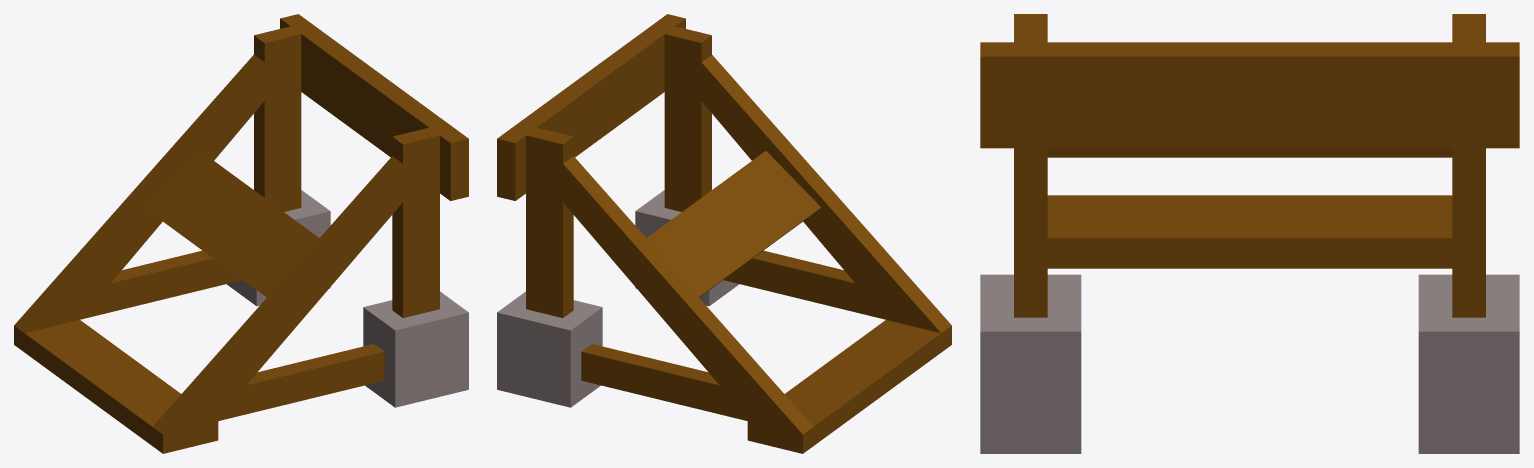
The model's file is obj_buffers_0.obj.
The picture shows the model from 3 angles, left to right: view 1: azimuth 30°, elevation 25°; view 2: azimuth 150°, elevation 25°; view 3: azimuth 270°, elevation 25°; orthographic projection. The views are drawn at different scales.
Bounding box in the file's own units: 1 × 0.8125 × 1.
